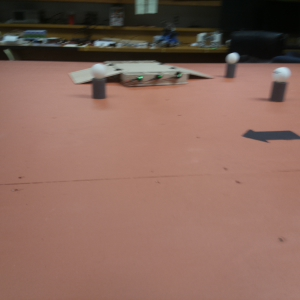obstacle: (269, 67, 289, 104), (91, 63, 107, 99), (224, 52, 239, 79)
side: (123, 73, 189, 86)
slope: (71, 66, 122, 87)
start: (241, 127, 300, 143)
